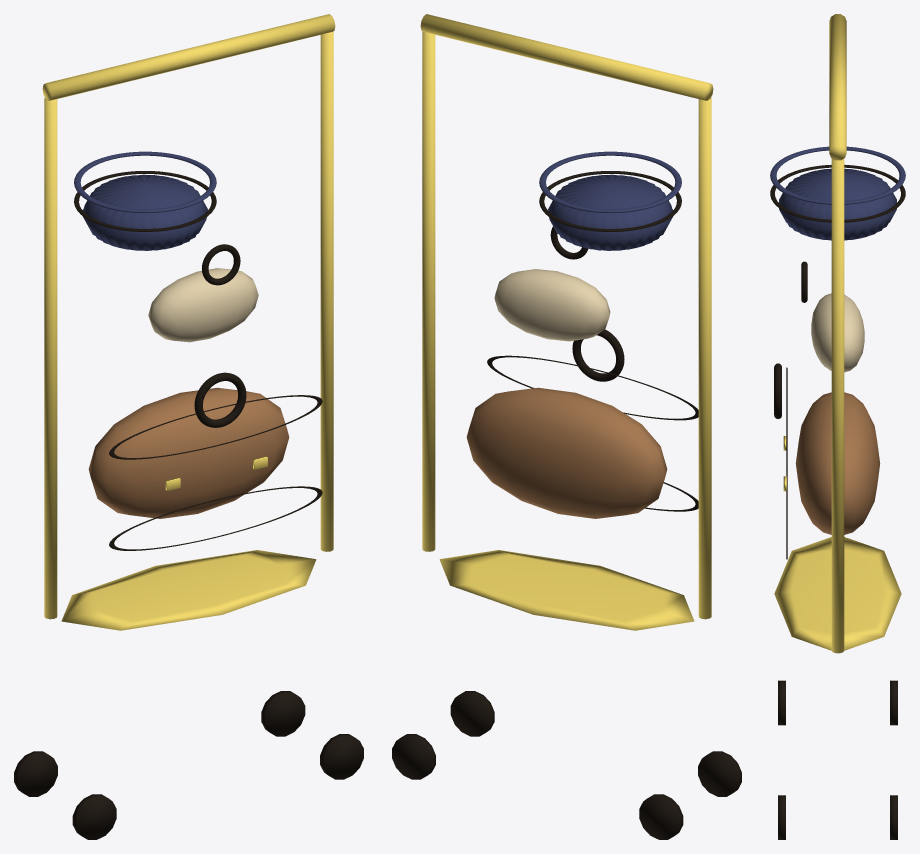
Rendered from cart.glb.
3 views of the same model, side by side, from view 1: azimuth 30°, elevation 25°; view 2: azimuth 150°, elevation 25°; view 3: azimuth 270°, elevation 25° (orthographic). The views are drawn at different scales.
Visible parts, largest first — view 1: Suitcase1, CartBase, Pole, Pole.001, HatBox, Suitcase2, CartBar, HatBoxRim, Wheel, Wheel.003, Wheel.002, Wheel.001 (+5 smaller); view 2: Suitcase1, CartBase, Pole, Pole.001, HatBox, Suitcase2, CartBar, HatBoxRim, Wheel.002, Wheel.001, Wheel, Wheel.003 (+3 smaller); view 3: CartBase, Suitcase1, Pole.001, HatBox, CartBar, Suitcase2, HatBoxRim, HatBoxStrap, Handle1, Wheel, Wheel.002, Wheel.001 (+2 smaller).
Part boxes in pixels (x1,y1,x2,y2): Suitcase1: (88, 387, 289, 518); CartBase: (61, 550, 316, 630); Pole: (44, 98, 57, 619); Pole.001: (320, 31, 333, 551); HatBox: (82, 174, 207, 250); Suitcase2: (148, 268, 258, 342); CartBar: (42, 14, 335, 100); HatBoxRim: (74, 151, 216, 213); Wheel: (72, 794, 116, 839); Wheel.003: (261, 691, 305, 736); Wheel.002: (14, 751, 57, 796); Wheel.001: (320, 734, 363, 779); Suitcase1: (466, 387, 667, 518); CartBase: (439, 550, 694, 630); Pole: (698, 98, 711, 619); Pole.001: (422, 31, 435, 551); HatBox: (548, 174, 673, 250); Suitcase2: (494, 269, 610, 341); CartBar: (420, 14, 713, 100); HatBoxRim: (539, 151, 681, 213); Wheel.002: (639, 794, 683, 839); Wheel.001: (450, 691, 494, 736); Wheel: (698, 751, 741, 796); Wheel.003: (392, 734, 435, 779); CartBase: (774, 537, 901, 650); Suitcase1: (795, 392, 880, 534); Pole.001: (831, 158, 844, 653); HatBox: (779, 168, 896, 240); CartBar: (829, 14, 846, 160); Suitcase2: (811, 293, 864, 372); HatBoxRim: (770, 146, 905, 204); HatBoxStrap: (770, 164, 905, 222); Handle1: (774, 363, 781, 418); Wheel: (778, 680, 785, 725); Wheel.002: (890, 680, 897, 725); Wheel.001: (778, 795, 785, 839).
Size of the model in its own units: 0.3952 by 0.9685 by 0.17.
